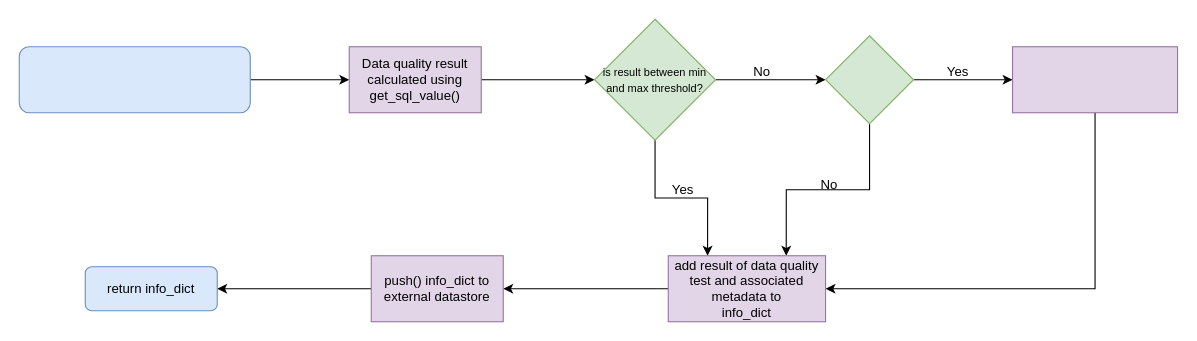
The diagram is 1197 pixels wide and 341 high, and some of its shapes have lost their labels. The centre of each missing label's shape, as x and y in pixels:
DataQualityThresholdCheckOperator signaled to run execute(): (x=134, y=79)
notify email?: (x=869, y=79)
send_email_notification(): (x=1094, y=79)
